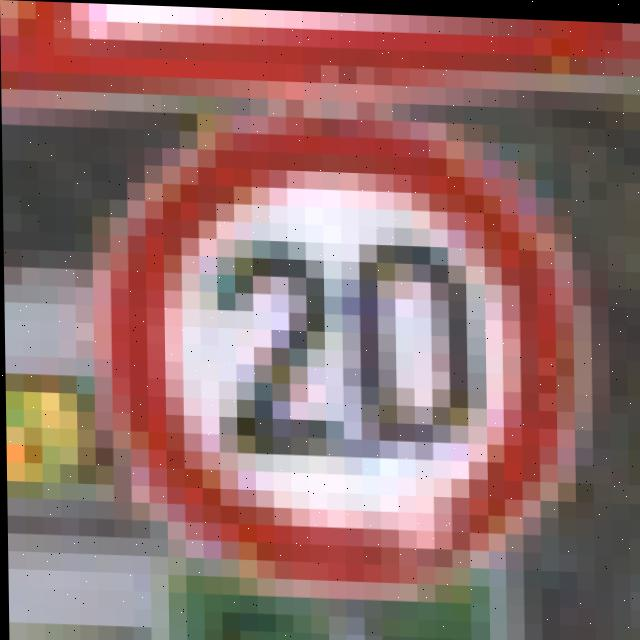speed_limit_20: (94, 116, 583, 605)
